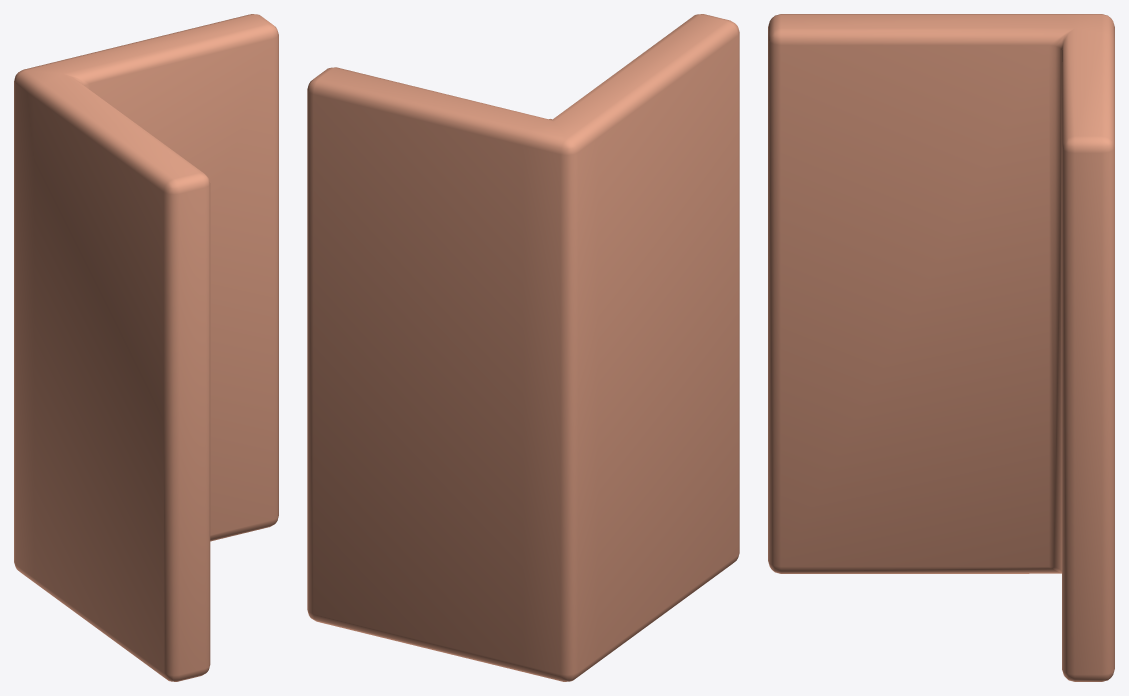
Rendered from block_corner_short.fbx.
3 views of the same model, side by side, from view 1: azimuth 30°, elevation 25°; view 2: azimuth 150°, elevation 25°; view 3: azimuth 270°, elevation 25° (orthographic). The views are drawn at different scales.
Parts seen in each view (by area): view 1: block_corner_short; view 2: block_corner_short; view 3: block_corner_short.
Part boxes in pixels (x1,y1,x2,y2): block_corner_short: [14, 14, 278, 681]; block_corner_short: [307, 14, 739, 681]; block_corner_short: [768, 14, 1114, 681].
Size of the model in its own units: 363 by 700 by 404.
